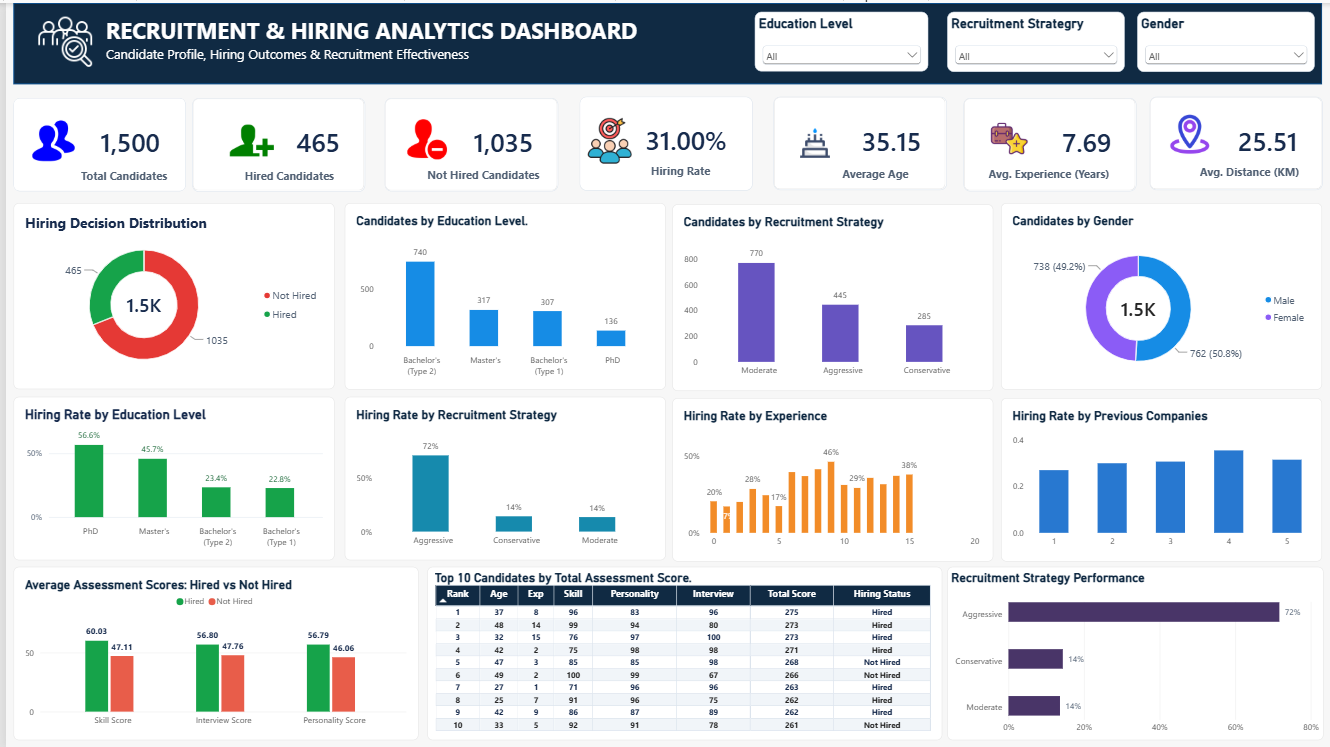

Layout of this report page (visuals, bound fields, positions):
{"tool":"powerbi","page":{"name":"Page 1","canvas":[1920,1080],"ordinal":0},"visuals":[{"type":"shape","box":[10.9,0,1894.7,117.6],"z":0},{"type":"textbox","box":[144.8,18.1,789,77.8],"z":1000},{"type":"cardVisual","fields":{"Data":["Avg(public recruitment_data.age)"]},"box":[1111.1,135.7,250.9,135],"z":1000,"group":"g5"},{"type":"cardVisual","fields":{"Data":["Avg(public recruitment_data.hiring_decision)"]},"box":[831.4,135.8,250.5,135.7],"z":2000,"group":"g6"},{"type":"donutChart","title":"Hiring Decision Distribution","fields":{"Category":["public recruitment_data.Hiring Status"],"Y":["CountNonNull(public recruitment_data.hiring_decision)"]},"box":[10.9,289.5,465.1,269.6],"z":2000},{"type":"cardVisual","title":"Total Candidates","fields":{"Data":["CountNonNull(public recruitment_data.age)"]},"box":[10.9,137.7,249.7,135.6],"z":3000,"group":"g1"},{"type":"clusteredColumnChart","title":"Candidates by Education Level.","fields":{"Category":["public recruitment_data.Education Name"],"Y":["CountNonNull(public recruitment_data.education_level)"]},"box":[490.4,289.5,465,270],"z":3000},{"type":"cardVisual","fields":{"Data":["CountNonNull(public recruitment_data.hiring_decision)"]},"box":[269.6,137.5,250.2,135.8],"z":4000,"group":"g8"},{"type":"cardVisual","fields":{"Data":["Avg(public recruitment_data.experience_years)"]},"box":[1386.2,137.5,250.7,135],"z":4000,"group":"g2"},{"type":"clusteredColumnChart","title":"Candidates by Recruitment Strategy","fields":{"Category":["public recruitment_data.Recruitment Strategy Name"],"Y":["CountNonNull(public recruitment_data.age)"]},"box":[964.5,291.4,465,270],"z":4000},{"type":"cardVisual","fields":{"Data":["Avg(public recruitment_data.distance_from_company)"]},"box":[1655.8,135.7,250.7,135],"z":5000,"group":"g3"},{"type":"cardVisual","fields":{"Data":["CountNonNull(public recruitment_data.hiring_decision)"]},"box":[548.8,137.7,251.5,135],"z":5000,"group":"g4"},{"type":"donutChart","title":"Candidates by Gender","fields":{"Category":["public recruitment_data.Gender Name"],"Y":["CountNonNull(public recruitment_data.age)"]},"box":[1440.5,289.5,465,270],"z":5000},{"type":"clusteredColumnChart","title":"Hiring Rate by Education Level","fields":{"Category":["public recruitment_data.Education Name"],"Y":["Avg(public recruitment_data.hiring_decision)"]},"box":[10.9,570,465.1,237.1],"z":6000},{"type":"clusteredColumnChart","title":"Hiring Rate by Recruitment Strategy","fields":{"Category":["public recruitment_data.Recruitment Strategy Name"],"Y":["Avg(public recruitment_data.hiring_decision)"]},"box":[490.4,570,465,237],"z":7000},{"type":"clusteredColumnChart","title":"Hiring Rate by Experience","fields":{"Category":["public recruitment_data.experience_years"],"Y":["Avg(public recruitment_data.hiring_decision)"]},"box":[964.5,571.9,465,237],"z":8000},{"type":"clusteredColumnChart","title":"Hiring Rate by Previous Companies","fields":{"Category":["public recruitment_data.previous_companies"],"Y":["Avg(public recruitment_data.hiring_decision)"]},"box":[1440.5,571.9,465,237],"z":9000},{"type":"clusteredColumnChart","title":"Average Assessment Scores: Hired vs Not Hired","fields":{"Category":["public recruitment_data (2).Assessment Type"],"Series":["public recruitment_data (2).Hiring Status"],"Y":["Avg(public recruitment_data (2).Assessment Score)"]},"box":[10.9,816.2,586.3,251.5],"z":10000},{"type":"tableEx","title":"Top 10 Candidates by Total Assessment Score.","fields":{"Values":["Total Score.Rank","Sum(Total Score.age)","Sum(Total Score.experience_years)","Sum(Total Score.skill_score)","Sum(Total Score.personality_score)","Sum(Total Score.interview_score)","Total Score.Total Score","Total Score.Hiring Status"]},"box":[609.9,816.2,745.6,251.5],"z":11000},{"type":"clusteredBarChart","title":"Recruitment Strategy Performance","fields":{"Category":["public recruitment_data.Recruitment Strategy Name"],"Y":["Avg(public recruitment_data.hiring_decision)"]},"box":[1362.7,816.2,544.7,251.5],"z":12000},{"type":"group","id":"g1","title":"Group 1","box":[10.9,137.7,250,135],"z":13000},{"type":"textbox","box":[1209.8,235.2,110.6,25.3],"z":13000,"group":"g5"},{"type":"group","id":"g2","title":"Group 4","box":[1386.2,137.5,249.7,135.7],"z":14000},{"type":"image","box":[1132.8,180.9,77,43.4],"z":14000,"group":"g5"},{"type":"group","id":"g3","title":"Group 5","box":[1655.8,135.7,249.7,135.7],"z":15000},{"type":"group","id":"g4","title":"Group 3","box":[548.8,137.7,251.5,135],"z":15000,"group":"g7"},{"type":"group","id":"g5","title":"Group 7","box":[1111.1,135.7,249.7,135.7],"z":16000},{"type":"group","id":"g6","title":"Group 6","box":[831.4,135.8,250,135.8],"z":17000},{"type":"textbox","box":[934.1,231.4,124.2,25.5],"z":17000,"group":"g6"},{"type":"group","id":"g7","title":"Group 8","box":[548.8,137.7,251.5,135],"z":18000},{"type":"group","id":"g8","title":"Group 9","box":[269.6,137.5,249.7,135.7],"z":19000},{"type":"textbox","box":[1422.2,235.4,195,25.3],"z":19000,"group":"g2"},{"type":"slicer","title":"Education Level","fields":{"Values":["public recruitment_data.Education Name"]},"box":[1084,12.7,251.5,86],"z":20000},{"type":"textbox","box":[1727.4,233.9,157.9,23.5],"z":20000,"group":"g3"},{"type":"group","id":"g9","title":"Group 2","box":[345.8,238.9,145.1,25.4],"z":20000,"group":"g8"},{"type":"slicer","title":"Recruitment Strategry","fields":{"Values":["public recruitment_data.Recruitment Strategy Name"]},"box":[1362.7,12.7,257,86.9],"z":21000},{"type":"image","box":[840.4,160.9,69,76.4],"z":21000,"group":"g6"},{"type":"slicer","title":"Gender","fields":{"Values":["public recruitment_data.Gender Name"]},"box":[1637.7,12.7,257,86.9],"z":22000},{"type":"textbox","box":[109,238.7,142.1,26.1],"z":22000,"group":"g1"},{"type":"image","box":[36.2,14.5,99.5,83.2],"z":22001},{"type":"image","box":[1421.3,168.3,63.9,56.1],"z":23000,"group":"g2"},{"type":"textbox","box":[345.8,238.9,144.8,25.3],"z":23000,"group":"g9"},{"type":"image","box":[1682.6,144.7,61.9,90.5],"z":24000,"group":"g3"},{"type":"image","box":[38.3,151.1,61.6,98.1],"z":29001,"group":"g1"},{"type":"image","box":[324.4,150.5,64,98.2],"z":29002,"group":"g8"},{"type":"image","box":[581.9,159.4,57.9,76],"z":29003,"group":"g4"},{"type":"textbox","box":[610.4,237.3,170.3,23.5],"z":29003,"group":"g7"}]}

Visuals, with their boxes in screenshot pixels (x1, y1, x2, y2), scaled from the page's 1920x1080 canvas onto the 1330x747 screenshot:
shape: 8 0 1320 81
textbox: 100 13 647 66
cardVisual - Avg(public recruitment_data.age): 770 94 943 187
cardVisual - Avg(public recruitment_data.hiring_decision): 576 94 749 188
"Hiring Decision Distribution" donutChart: 8 200 330 387
"Total Candidates" cardVisual: 8 95 181 189
"Candidates by Education Level." clusteredColumnChart: 340 200 662 387
cardVisual - CountNonNull(public recruitment_data.hiring_decision): 187 95 360 189
cardVisual - Avg(public recruitment_data.experience_years): 960 95 1134 188
"Candidates by Recruitment Strategy" clusteredColumnChart: 668 202 990 388
cardVisual - Avg(public recruitment_data.distance_from_company): 1147 94 1321 187
cardVisual - CountNonNull(public recruitment_data.hiring_decision): 380 95 554 189
"Candidates by Gender" donutChart: 998 200 1320 387
"Hiring Rate by Education Level" clusteredColumnChart: 8 394 330 558
"Hiring Rate by Recruitment Strategy" clusteredColumnChart: 340 394 662 558
"Hiring Rate by Experience" clusteredColumnChart: 668 396 990 559
"Hiring Rate by Previous Companies" clusteredColumnChart: 998 396 1320 559
"Average Assessment Scores: Hired vs Not Hired" clusteredColumnChart: 8 565 414 738
"Top 10 Candidates by Total Assessment Score." tableEx: 422 565 939 738
"Recruitment Strategy Performance" clusteredBarChart: 944 565 1321 738
"Group 1" group: 8 95 181 189
textbox: 838 163 915 180
"Group 4" group: 960 95 1133 189
image: 785 125 838 155
"Group 5" group: 1147 94 1320 188
"Group 3" group: 380 95 554 189
"Group 7" group: 770 94 943 188
"Group 6" group: 576 94 749 188
textbox: 647 160 733 178
"Group 8" group: 380 95 554 189
"Group 9" group: 187 95 360 189
textbox: 985 163 1120 180
"Education Level" slicer: 751 9 925 68
textbox: 1197 162 1306 178
"Group 2" group: 240 165 340 183
"Recruitment Strategry" slicer: 944 9 1122 69
image: 582 111 630 164
"Gender" slicer: 1134 9 1312 69
textbox: 76 165 174 183
image: 25 10 94 68
image: 985 116 1029 155
textbox: 240 165 340 183
image: 1166 100 1208 163
image: 27 105 69 172
image: 225 104 269 172
image: 403 110 443 163
textbox: 423 164 541 180
